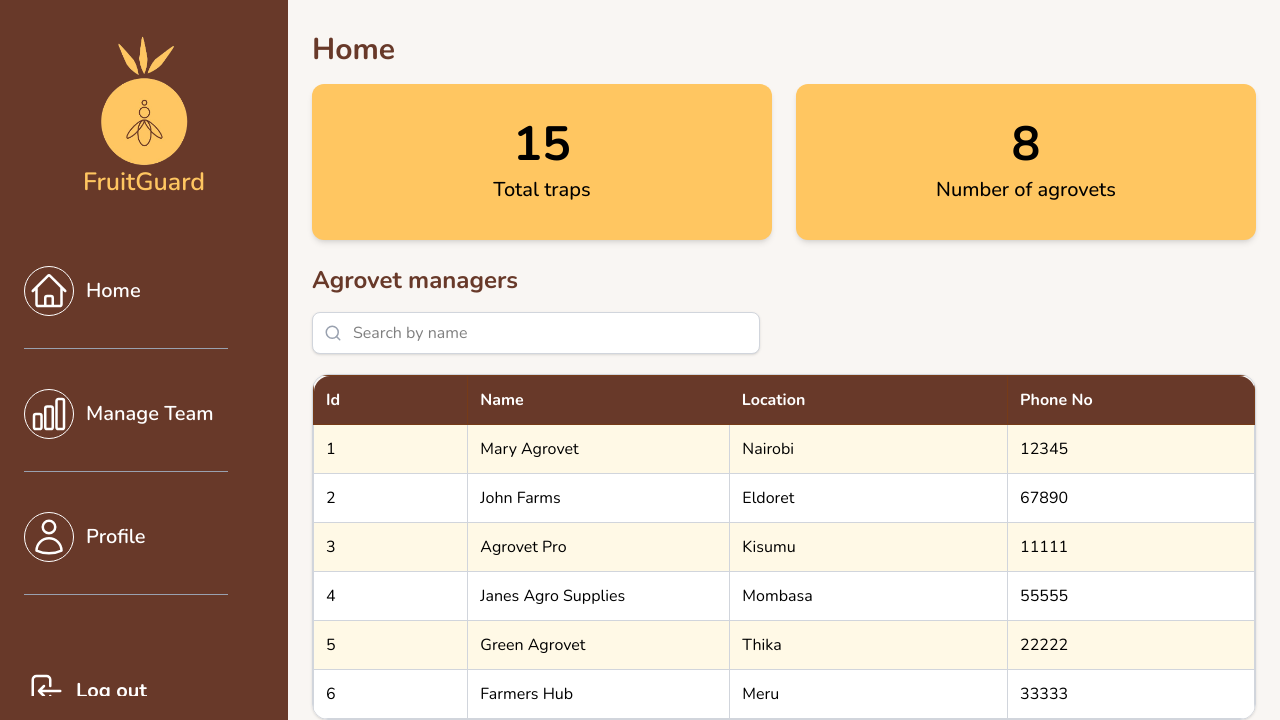
Scenario: HomePage › search filters agrovet managers by name (case-insensitive)
This screenshot has width=1280, height=720.
In the field with placeholder "Search by name": (536, 333) [312,312,760,354], type "mary"
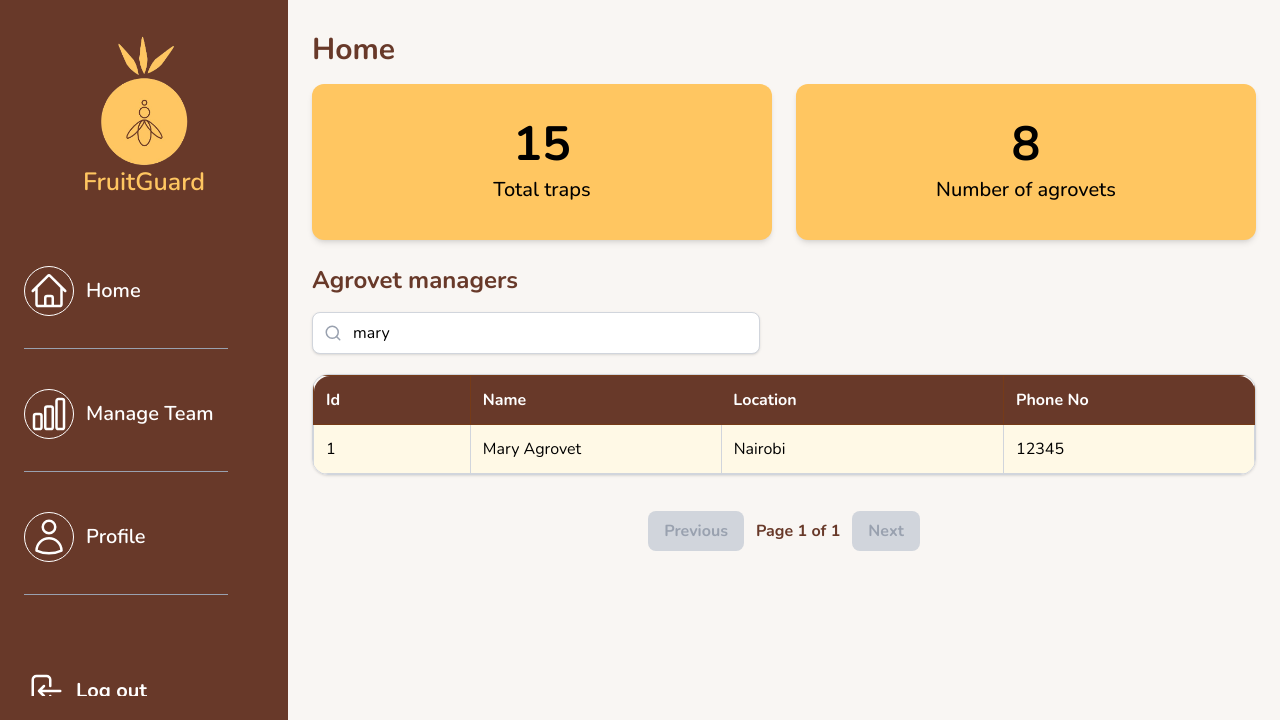
Expected: the text "John Farms" is gone
Expected: the text "Agrovet Pro" is gone
Expected: the text "Janes Agro Supplies" is gone
